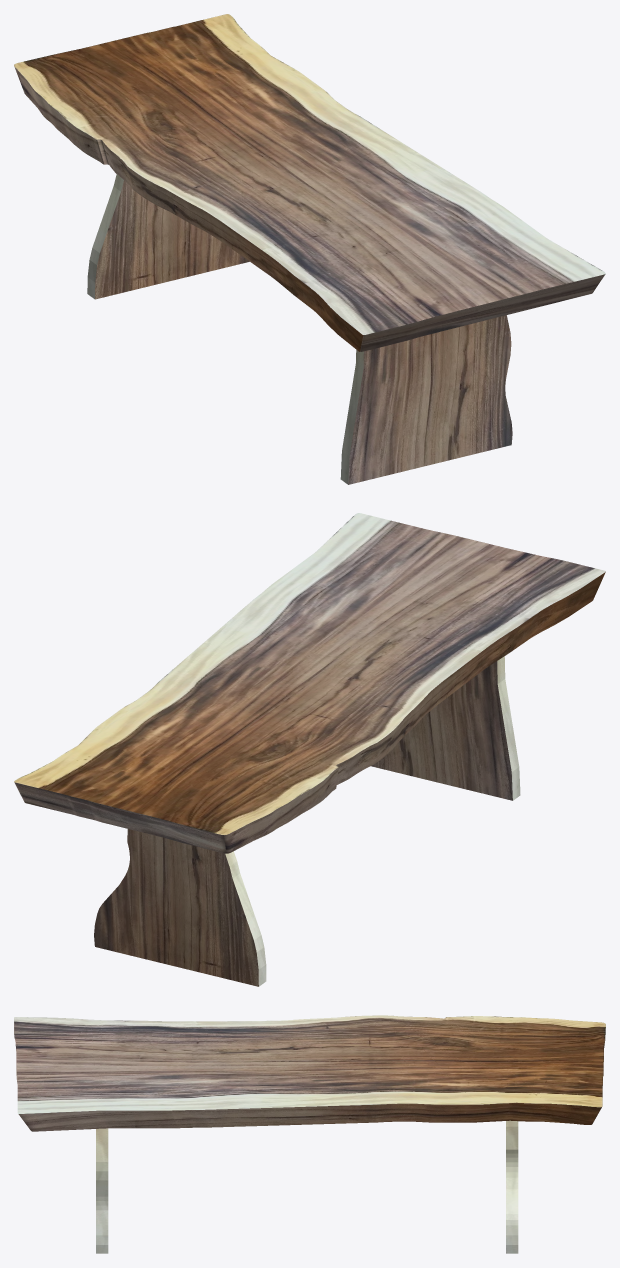
Rendered from Wood Table.glb.
3 views of the same model, one above another, from view 1: azimuth 30°, elevation 25°; view 2: azimuth 150°, elevation 25°; view 3: azimuth 270°, elevation 25° (orthographic). The views are drawn at different scales.
Visible parts, largest first — view 1: Curve; view 2: Curve; view 3: Curve.
Part boxes in pixels (left/top/right/bottom): Curve: left=14, top=14, right=605, bottom=484; Curve: left=14, top=513, right=605, bottom=986; Curve: left=14, top=1015, right=605, bottom=1253.
Size of the model in its own units: 0.9619 by 0.7187 by 2.44.
Materials: 1 (1 with a texture image).
